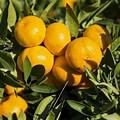orange: (62, 33, 103, 72), (44, 18, 78, 59), (7, 47, 53, 74), (84, 23, 116, 49), (15, 19, 45, 46)
